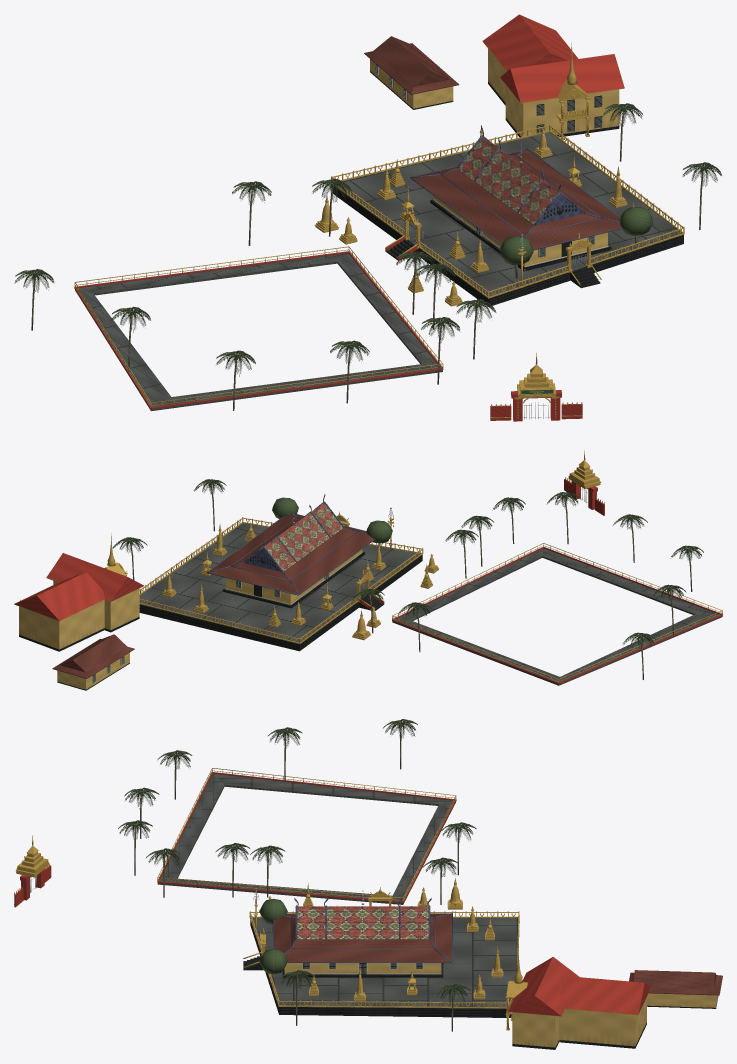
File: xvay-ton.glb
3 views of the same model, one above another, from view 1: azimuth 30°, elevation 25°; view 2: azimuth 150°, elevation 25°; view 3: azimuth 270°, elevation 25° (orthographic). The views are drawn at different scales.
Parts seen in each view (by area): view 1: xvay-ton; view 2: xvay-ton; view 3: xvay-ton.
Boxes of the visible parts, <box> form: xvay-ton: <box>14,14,721,421</box>; xvay-ton: <box>14,450,722,690</box>; xvay-ton: <box>14,719,722,1049</box>.
Size of the model in its own units: 117 by 15.68 by 123.
1 material, 1 textured.
